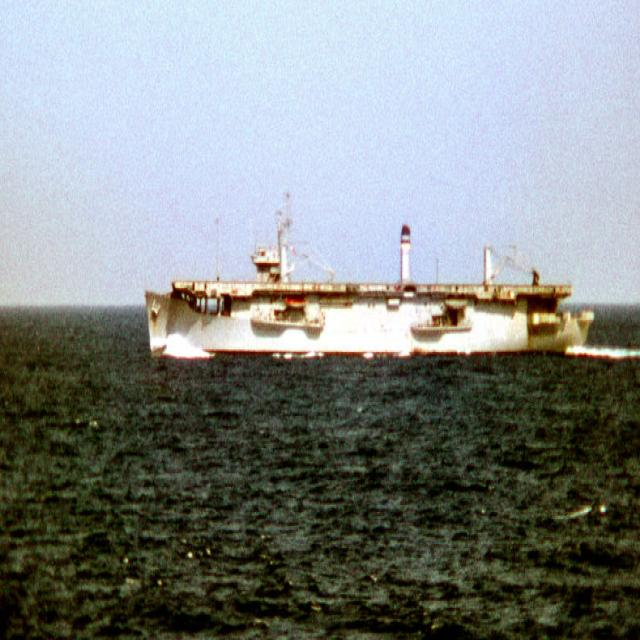Portanaves: (137, 179, 598, 373)
